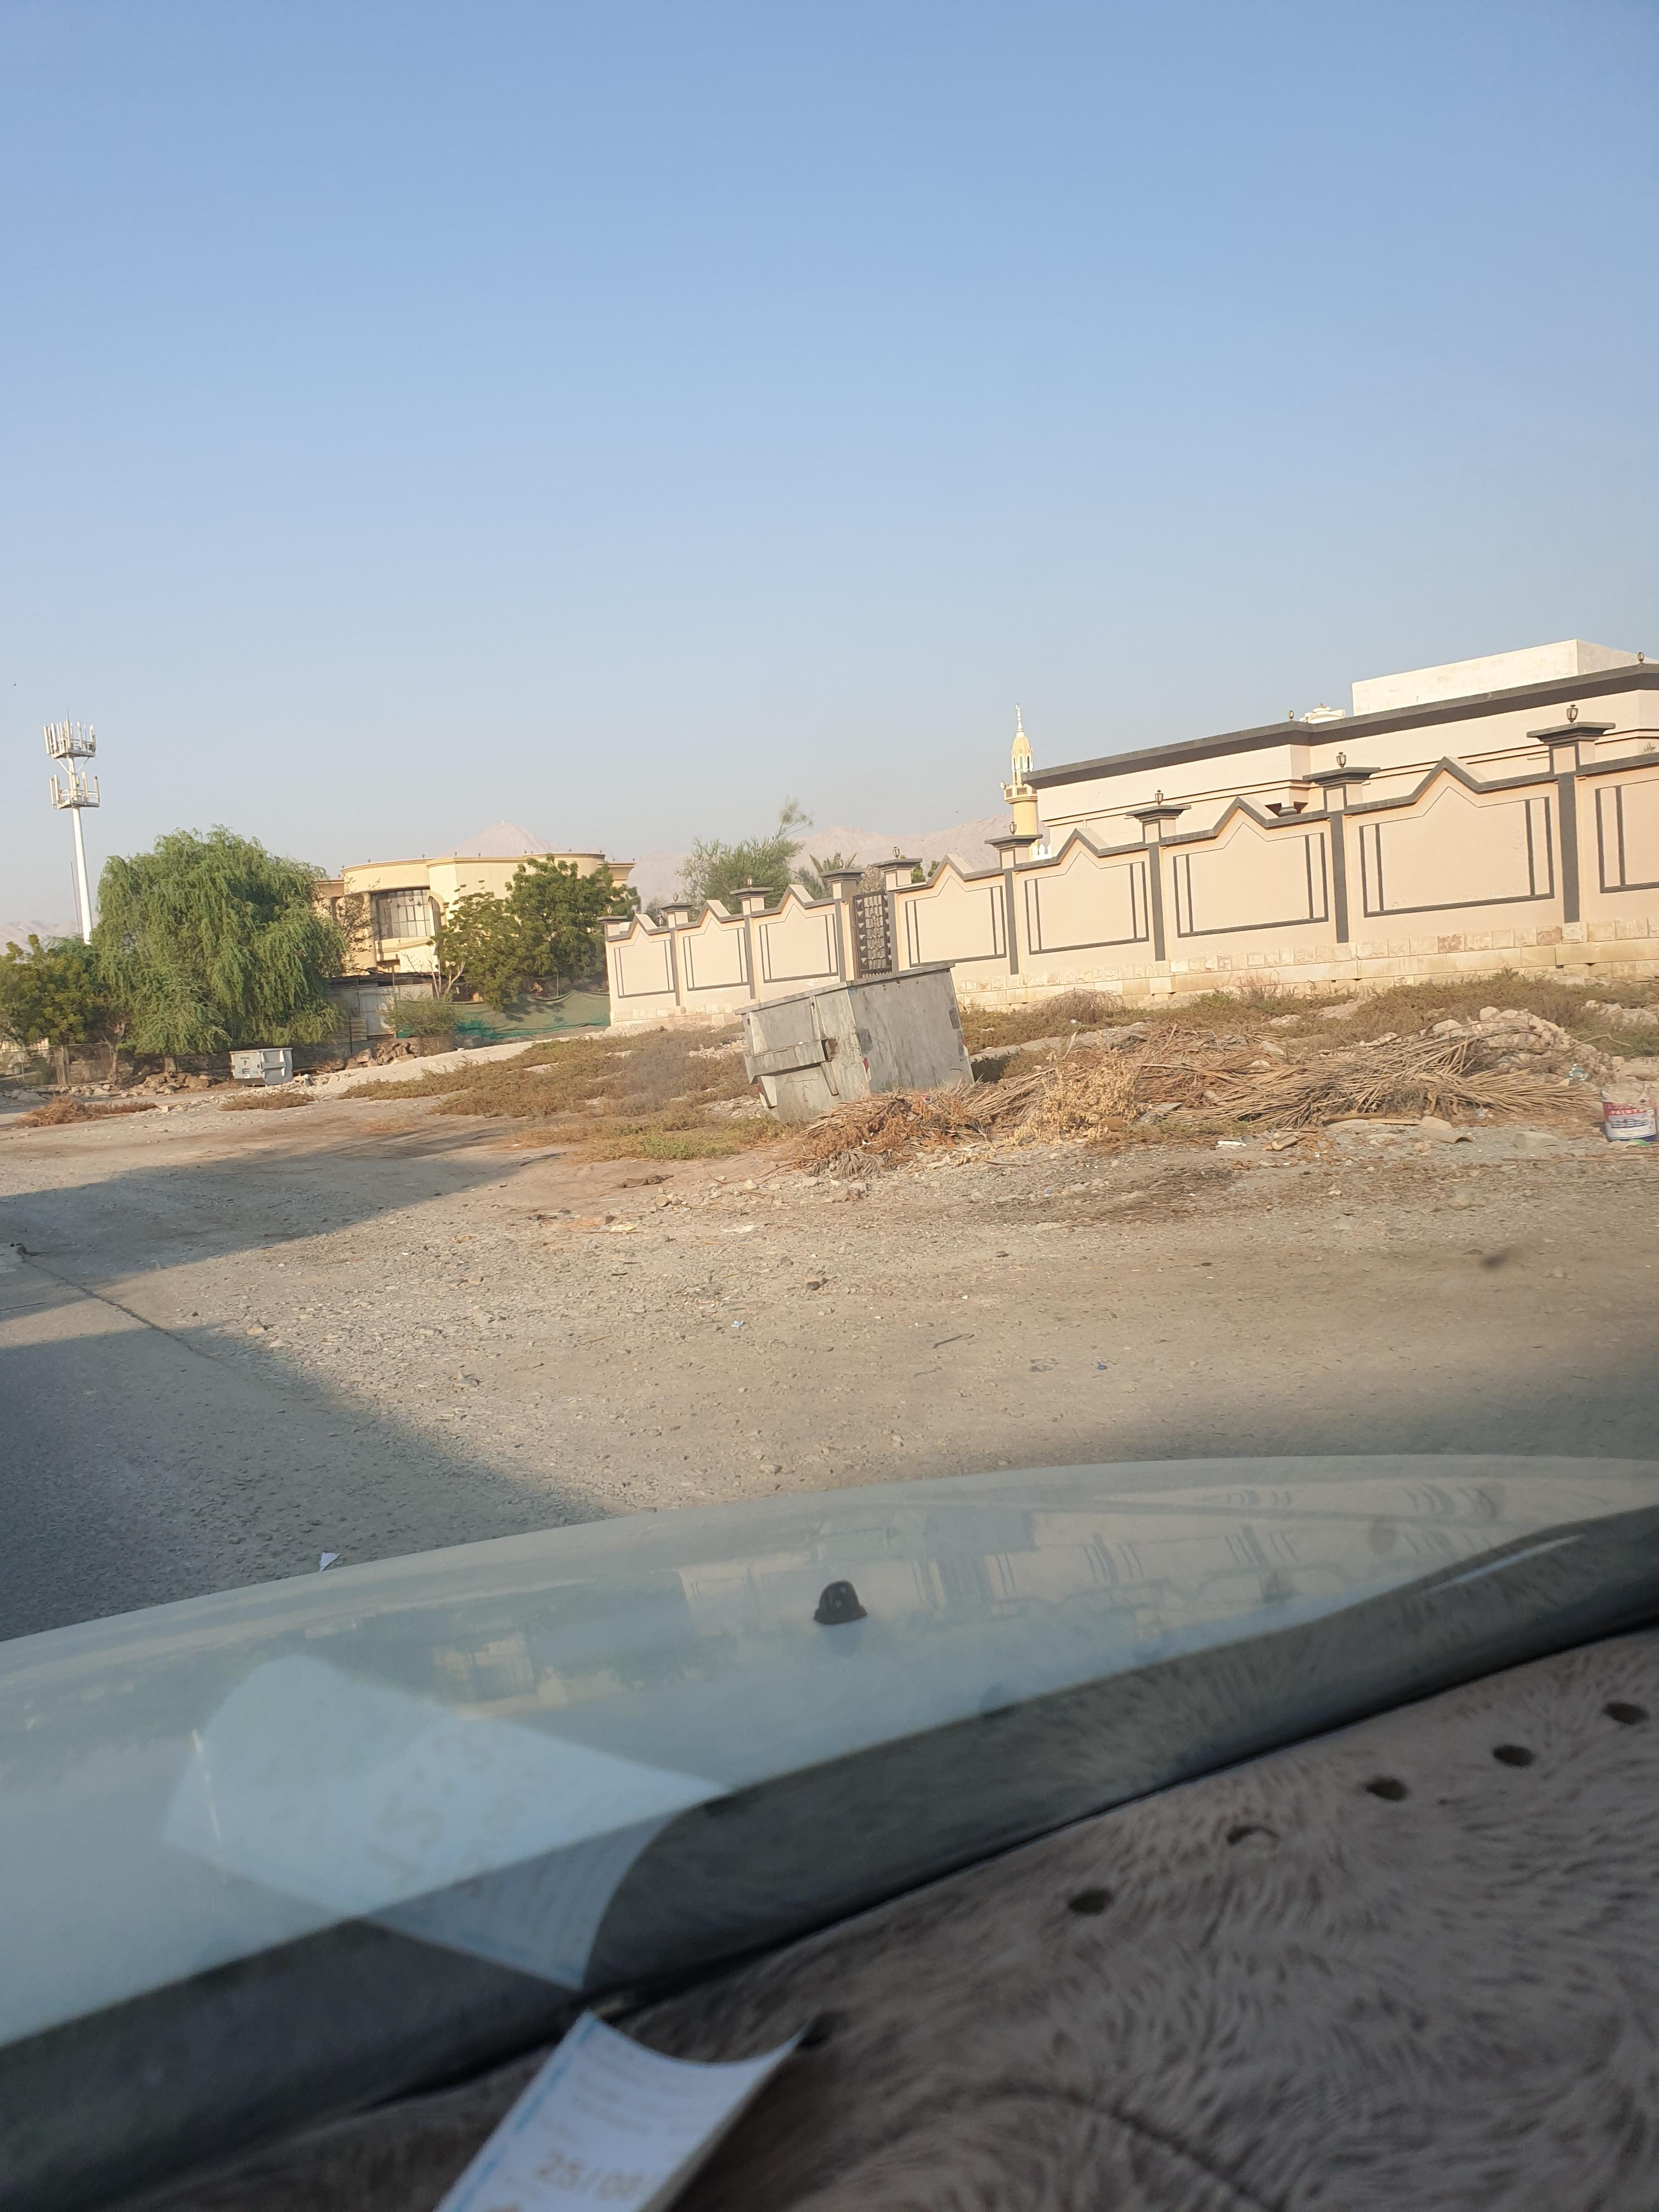fallen_trees: (988, 1080, 1364, 1202), (1138, 1061, 1270, 1160), (1223, 1085, 1366, 1172), (1291, 1054, 1424, 1141), (1011, 1076, 1124, 1172), (762, 1116, 913, 1188), (920, 1099, 1037, 1176), (1080, 1085, 1187, 1163), (803, 1143, 934, 1186)
